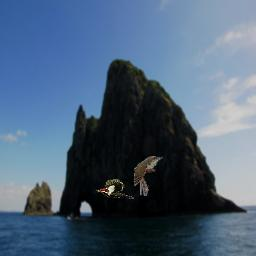Cuckoo: (134, 156, 163, 196)
Woodpecker: (94, 179, 134, 199)
